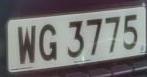3: (61, 16, 87, 61)
5: (120, 10, 143, 54)
7: (82, 14, 106, 57), (102, 12, 124, 55)
G: (37, 19, 60, 67)
W: (15, 22, 39, 68)
